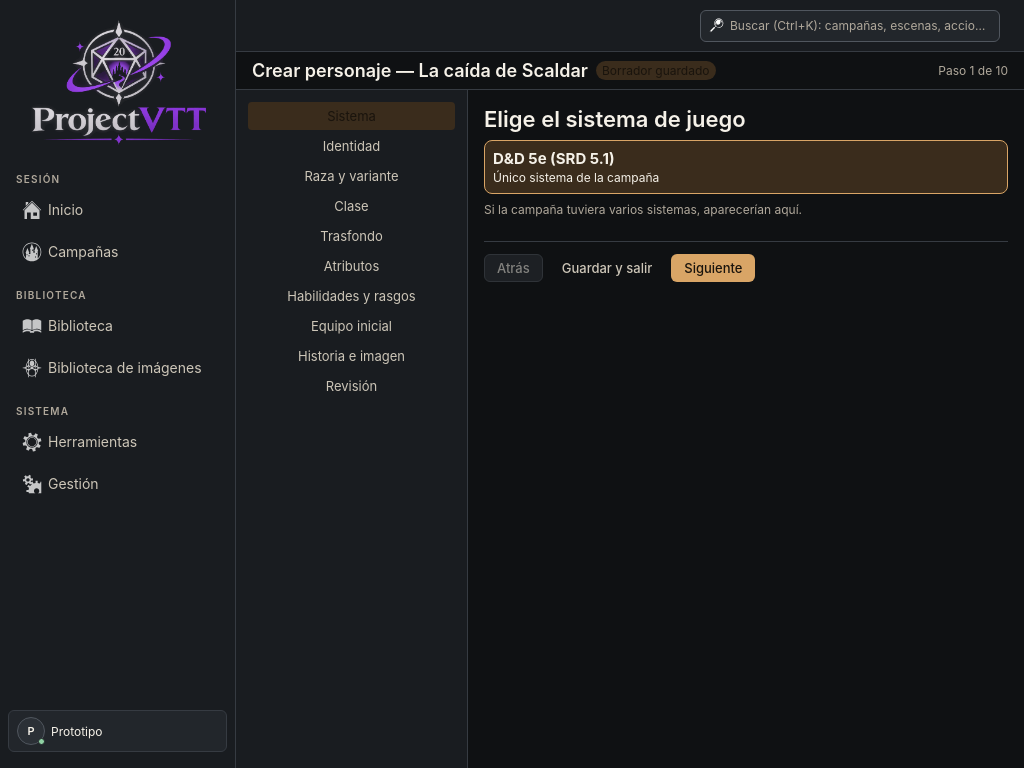
Scenario: Prototipo Creador de personajes (PMB-3.4) › compra de puntos: presupuesto, costes y modificadores
Click the button "Atributos" at {"x": 352, "y": 266}, box [248,252,455,280]
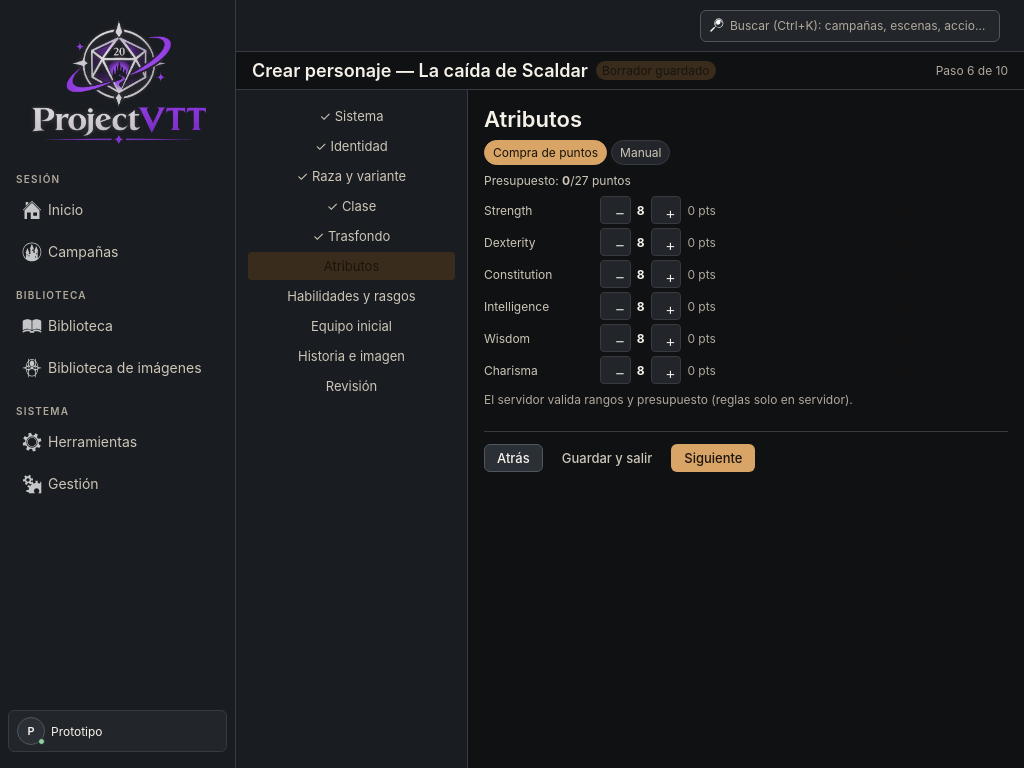
Now the text "Presupuesto: 0/27 puntos" is shown, box [484,173,631,188]
Now the text "0 pts" is shown 6 times, box [687,202,716,218]; [687,234,716,250]; [687,266,716,282]; [687,298,716,314]; [687,330,716,346]; [687,362,716,378]
Click the button named "Sumar Strength" at {"x": 666, "y": 210}, box [651,196,681,224]
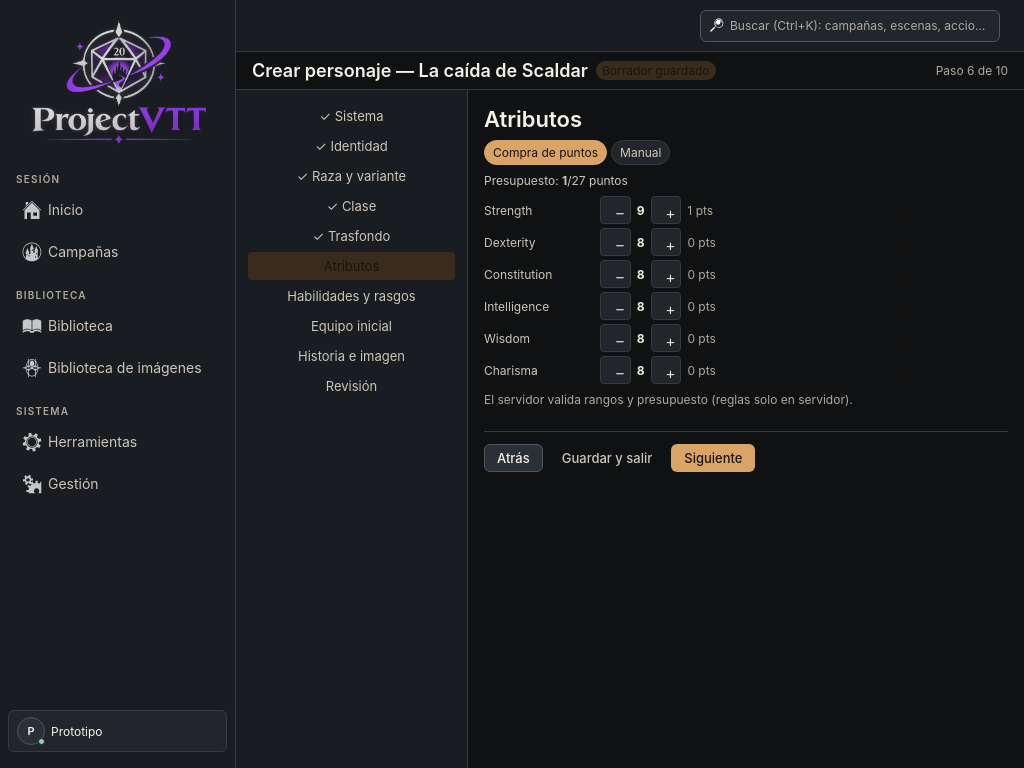
Click the button named "Sumar Strength" at {"x": 666, "y": 210}, box [651,196,681,224]
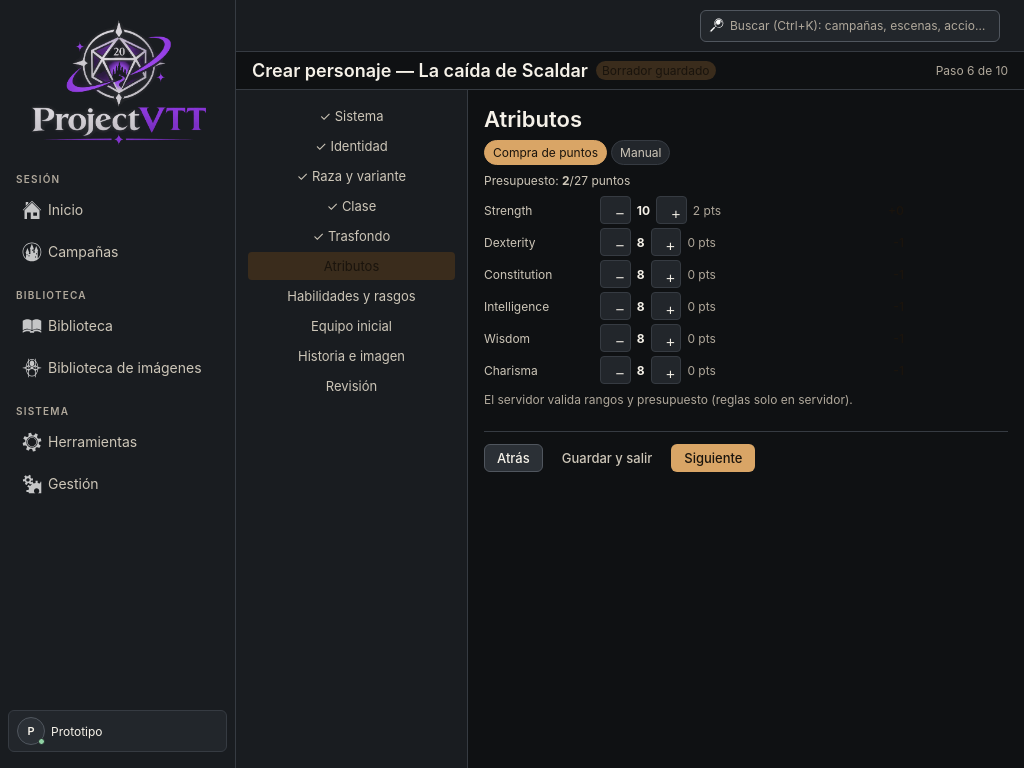
Now the text "2 pts" is shown, box [693,202,721,218]
Note: Cambiar a manual muestra entradas numéricas.
Click the button "Manual" at {"x": 641, "y": 152}, box [611,140,670,165]
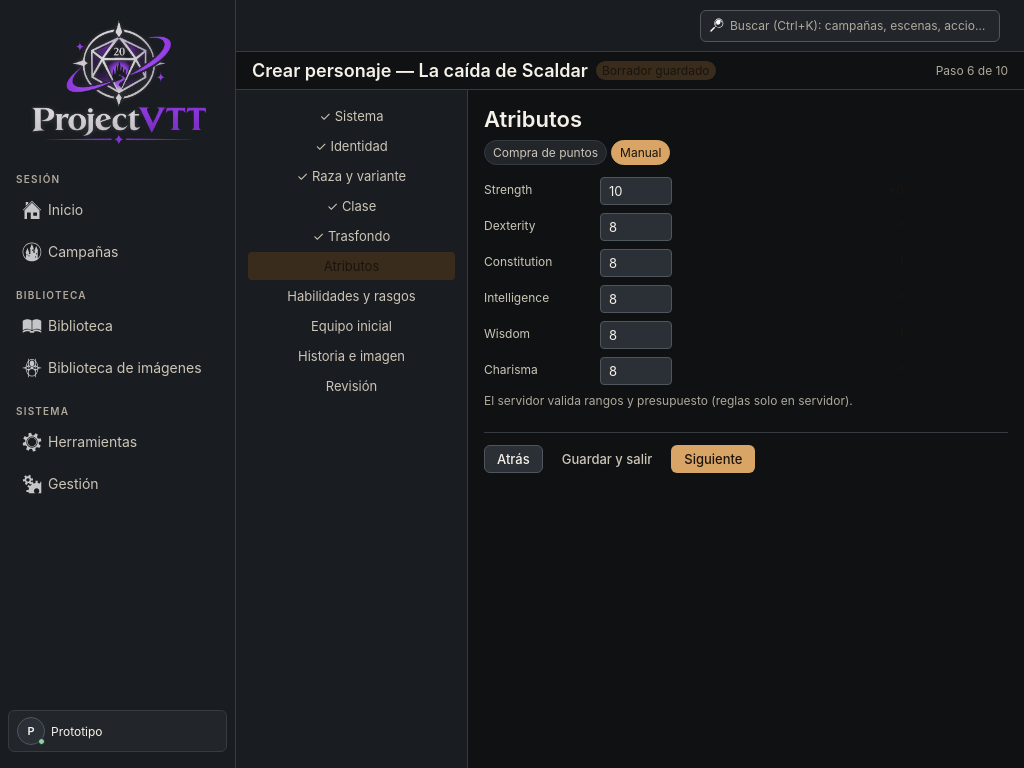
Now the number of number fields is 6, box [600,177,672,205]; [600,213,672,241]; [600,249,672,277]; [600,285,672,313]; [600,321,672,349]; [600,357,672,385]
